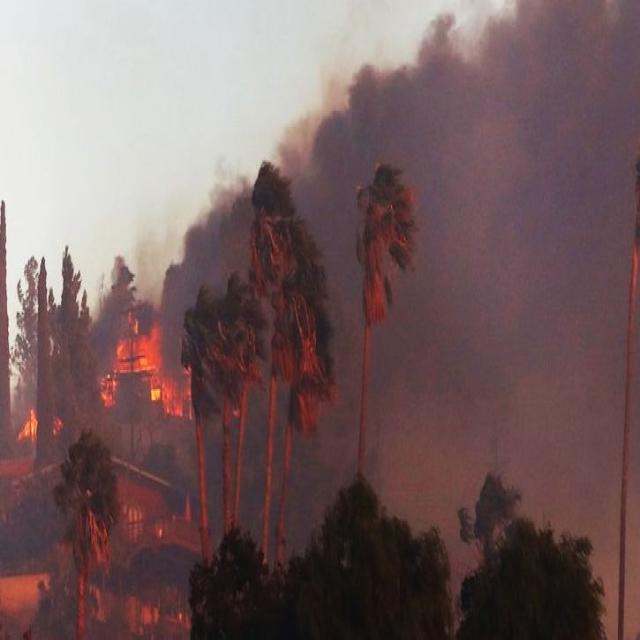Fire: (99, 296, 166, 407)
Smoke: (168, 21, 640, 388)
